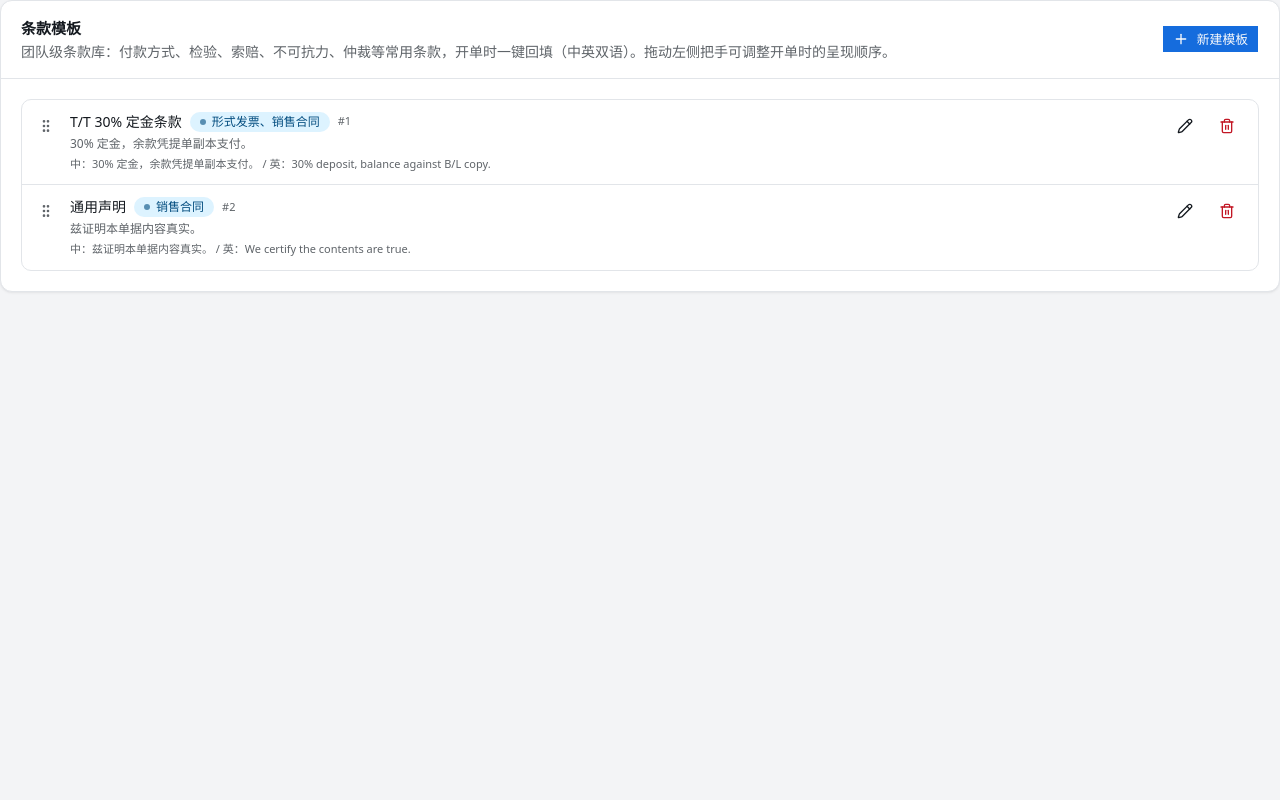
Scenario: ClauseTemplatesCard › 排序靠拖拽：列表有把手，弹窗里没有「排序」数字框
The width and height of the screenshot is (1280, 800).
Expected: the button named "拖动排序 T/T 30% 定金条款" is shown, [34, 112, 58, 140]
Expected: the button named "拖动排序 通用声明" is shown, [34, 197, 58, 225]
Click the button "新建模板".
click(1210, 39)  # box [1162, 25, 1259, 53]
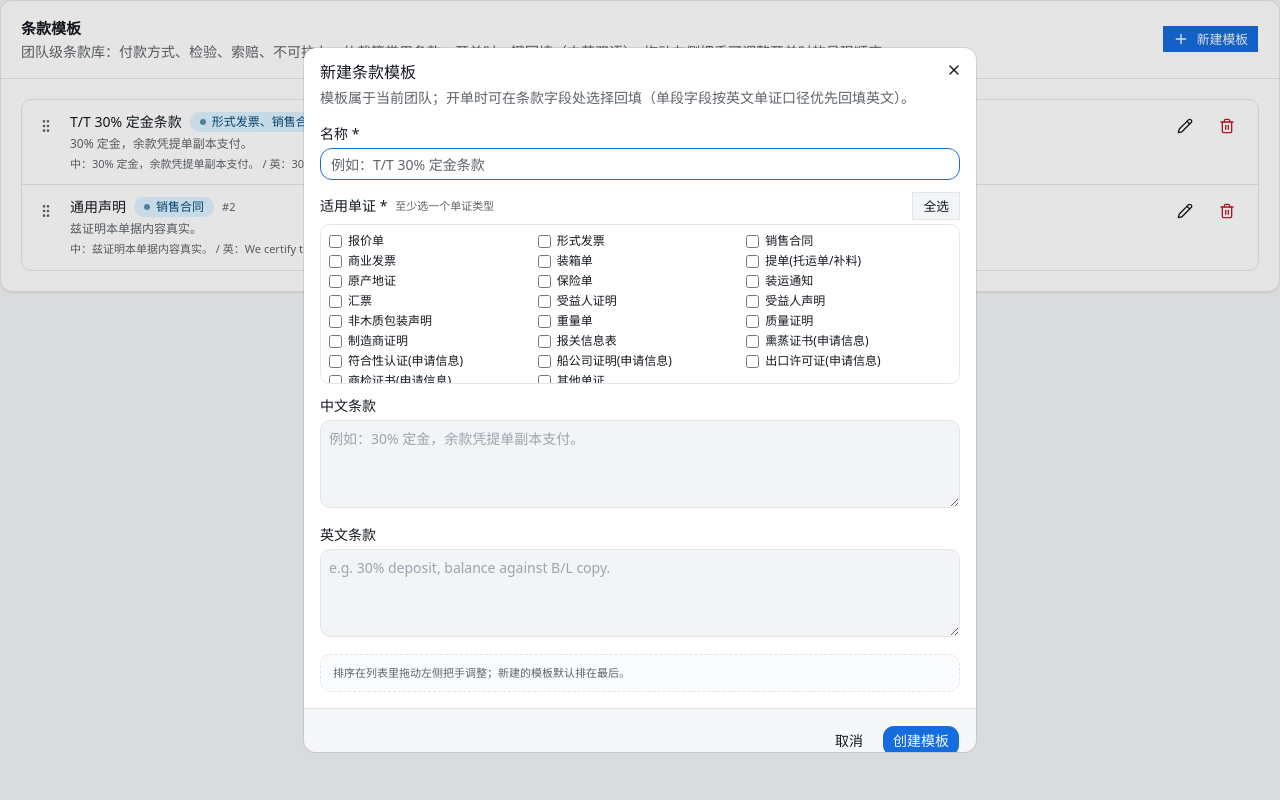
Result: the text "拖动左侧把手调整" is shown at [333, 665, 630, 680]
